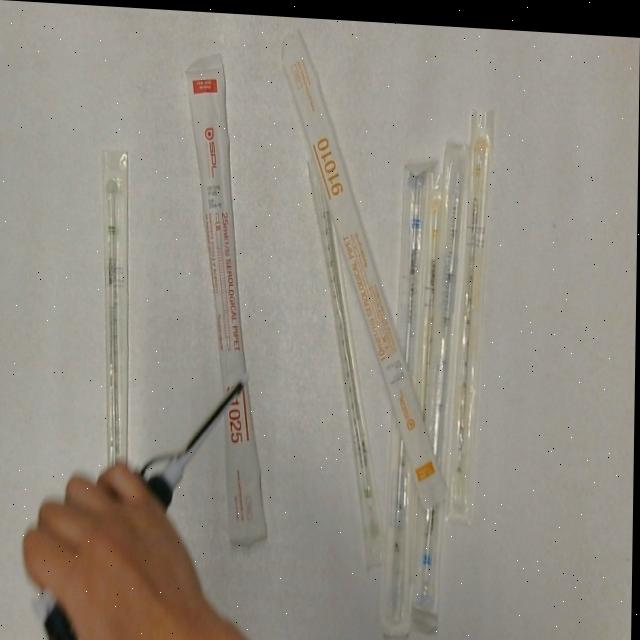Serelogical Pipet 1 mL: (449, 99, 498, 521), (417, 164, 446, 421)
Serelogical Pipet 10 mL: (275, 22, 457, 508)
Serelogical Pipet 2 mL: (303, 155, 395, 563), (94, 141, 138, 471)
Serelogical Pipet 25 mL: (179, 45, 278, 550)
Serelogical Pipet 5 mL: (414, 136, 473, 612), (384, 156, 431, 635)
Single Channel Pipettor: (28, 358, 253, 640)
